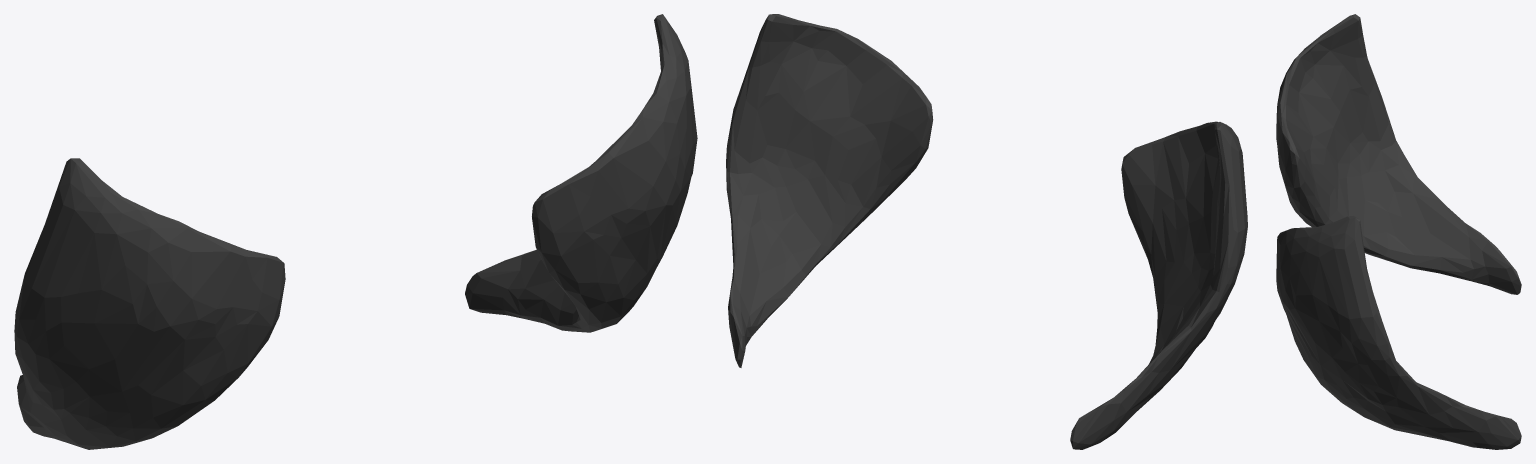
Rendered from m_cleidobrachialis.glb.
The picture shows the model from 3 angles, left to right: view 1: azimuth 30°, elevation 25°; view 2: azimuth 150°, elevation 25°; view 3: azimuth 270°, elevation 25°; orthographic projection. The views are drawn at different scales.
Visible parts, largest first — view 1: m_cleidobrachialis; view 2: m_cleidobrachialis; view 3: m_cleidobrachialis.
Boxes of the visible parts, x1,y1,x2,y2 form: m_cleidobrachialis: (14, 14, 697, 449); m_cleidobrachialis: (726, 14, 1247, 449); m_cleidobrachialis: (1276, 14, 1521, 449).
Size of the model in its own units: 0.00685 by 0.00357 by 0.00311.
1 material, 1 textured.
